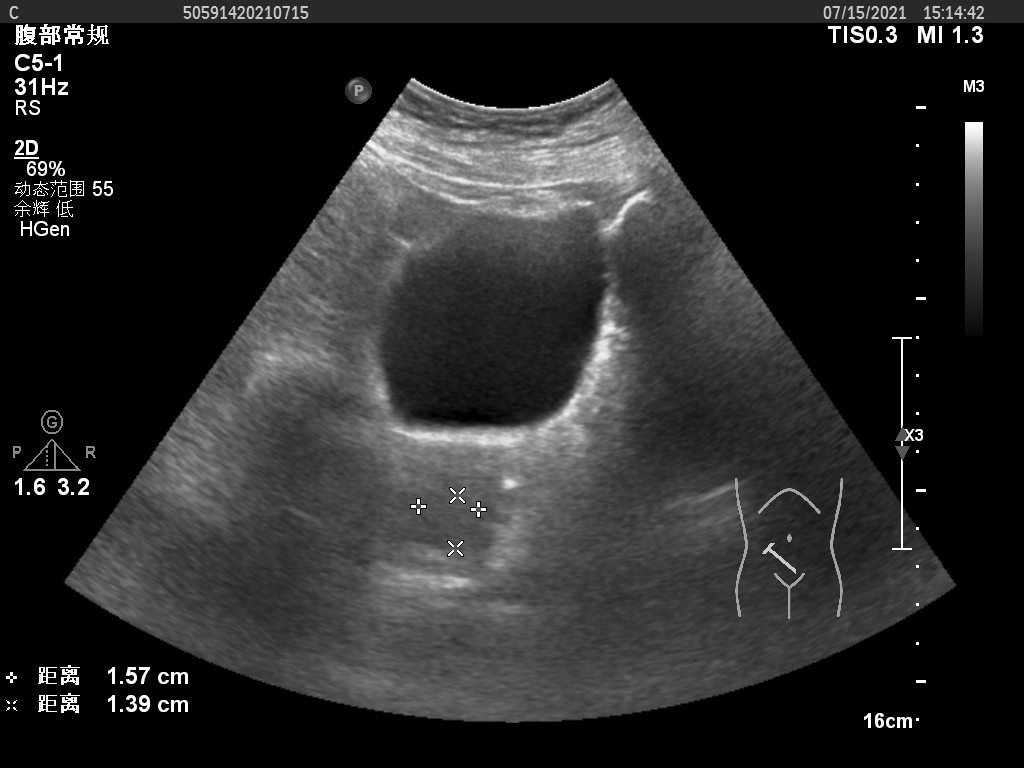肌瘤: (420, 501, 485, 546)
